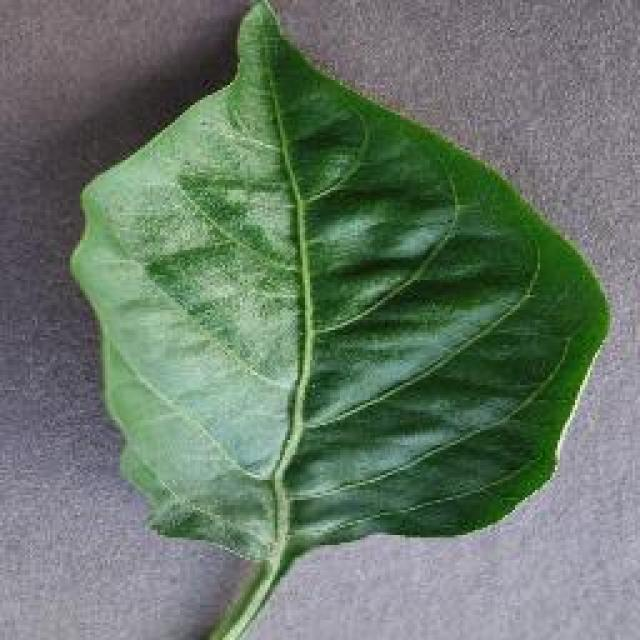Chilli_Healthy: (65, 0, 613, 638)
